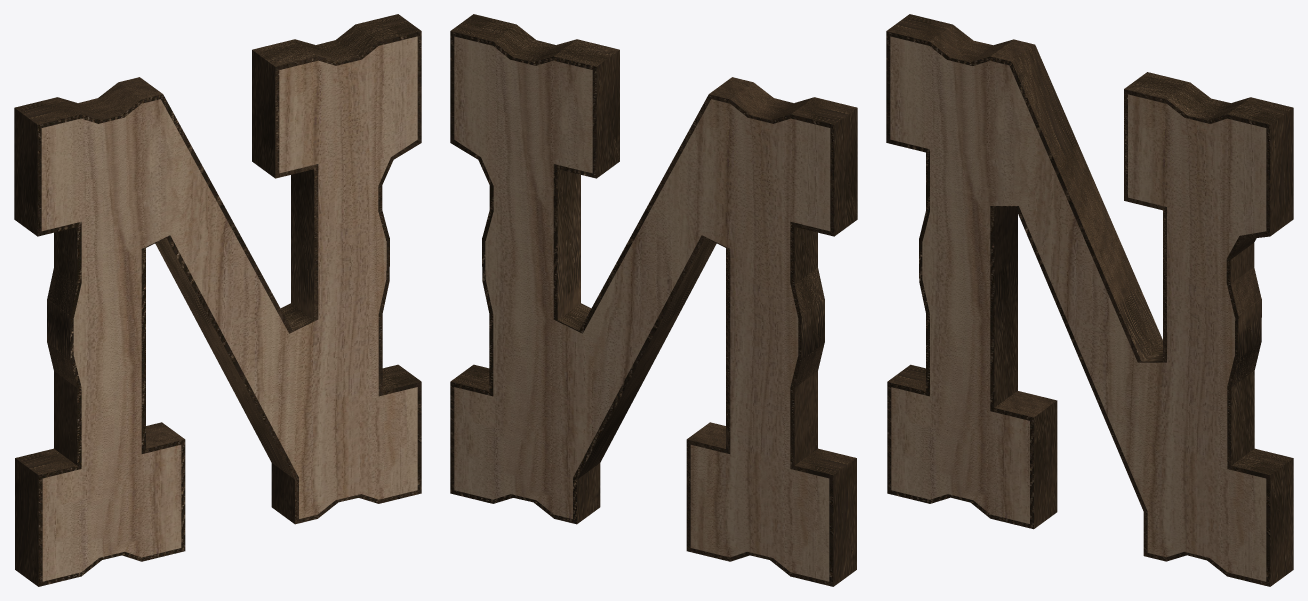
The picture shows the model from 3 angles, left to right: view 1: azimuth 30°, elevation 25°; view 2: azimuth 150°, elevation 25°; view 3: azimuth 330°, elevation 25°; orthographic projection.
Parts seen in each view (by area): view 1: N, N_outline; view 2: N, N_outline; view 3: N, N_outline.
Part boxes in pixels (x1,y1,x2,y2): N: [41, 36, 417, 581]; N_outline: [14, 14, 421, 586]; N: [454, 36, 830, 581]; N_outline: [450, 14, 857, 586]; N: [890, 36, 1266, 581]; N_outline: [886, 14, 1293, 586].
Bounding box in the file's own units: 94.59 × 109 × 10.
2 materials, 2 textured.
